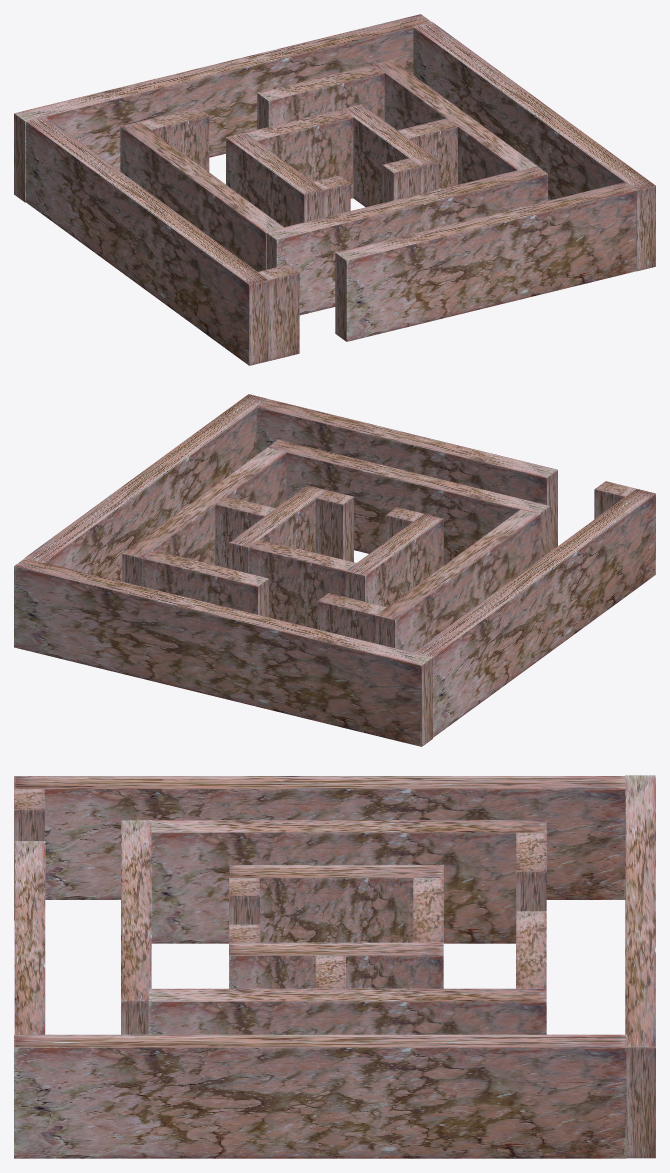
Rendered from maze6.FBX.
3 views of the same model, one above another, from view 1: azimuth 30°, elevation 25°; view 2: azimuth 150°, elevation 25°; view 3: azimuth 270°, elevation 25° (orthographic). The views are drawn at different scales.
Visible parts, largest first — view 1: Box006, Box004, Box005, Box002, Box007, Box008, Box009, Box014, Box015, Box011, Box013, Box003 (+4 smaller); view 2: Box005, Box004, Box002, Box007, Box006, Box008, Box009, Box015, Box014, Box011, Box013, Box017 (+4 smaller); view 3: Box002, Box004, Box008, Box009, Box014, Box005, Box013, Box007, Box006, Box010, Box011, Box015 (+4 smaller).
Part boxes in pixels (x1,y1,x2,y2): Box006: [335, 182, 636, 341]; Box004: [26, 116, 268, 365]; Box005: [14, 14, 431, 202]; Box002: [413, 22, 655, 271]; Box007: [265, 166, 547, 315]; Box008: [120, 121, 284, 271]; Box009: [373, 60, 537, 184]; Box014: [226, 133, 323, 227]; Box015: [245, 109, 353, 198]; Box011: [257, 64, 384, 129]; Box013: [342, 104, 439, 207]; Box003: [258, 264, 299, 360]; Box005: [14, 558, 432, 746]; Box004: [412, 489, 655, 737]; Box002: [24, 394, 267, 581]; Box007: [267, 439, 550, 565]; Box006: [256, 399, 557, 551]; Box008: [375, 509, 540, 652]; Box009: [122, 447, 286, 586]; Box015: [248, 539, 356, 628]; Box014: [345, 513, 443, 606]; Box011: [141, 550, 269, 617]; Box013: [229, 485, 326, 573]; Box017: [315, 490, 353, 562]; Box002: [14, 1034, 626, 1158]; Box004: [14, 776, 626, 899]; Box008: [148, 820, 546, 943]; Box009: [148, 988, 546, 1034]; Box014: [229, 865, 443, 942]; Box005: [625, 775, 655, 1158]; Box013: [229, 942, 443, 988]; Box007: [121, 820, 151, 1034]; Box006: [14, 841, 45, 1034]; Box010: [516, 832, 546, 911]; Box011: [516, 911, 546, 988]; Box015: [413, 878, 443, 942].
Bounding box in the file's own units: 105 × 20 × 105.
1 material, 1 textured.
